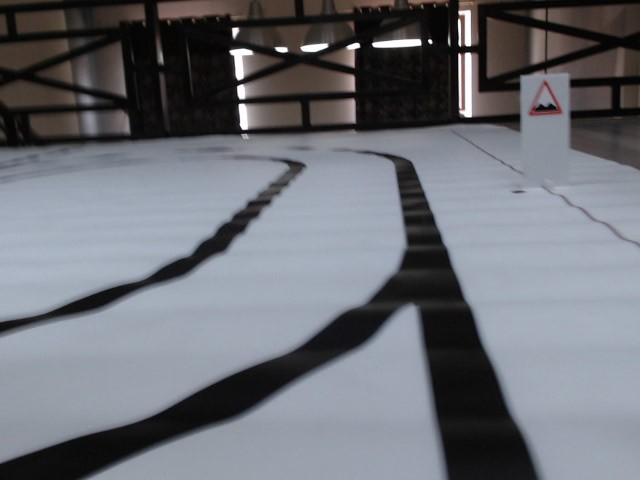Nerov: (527, 81, 564, 117)
